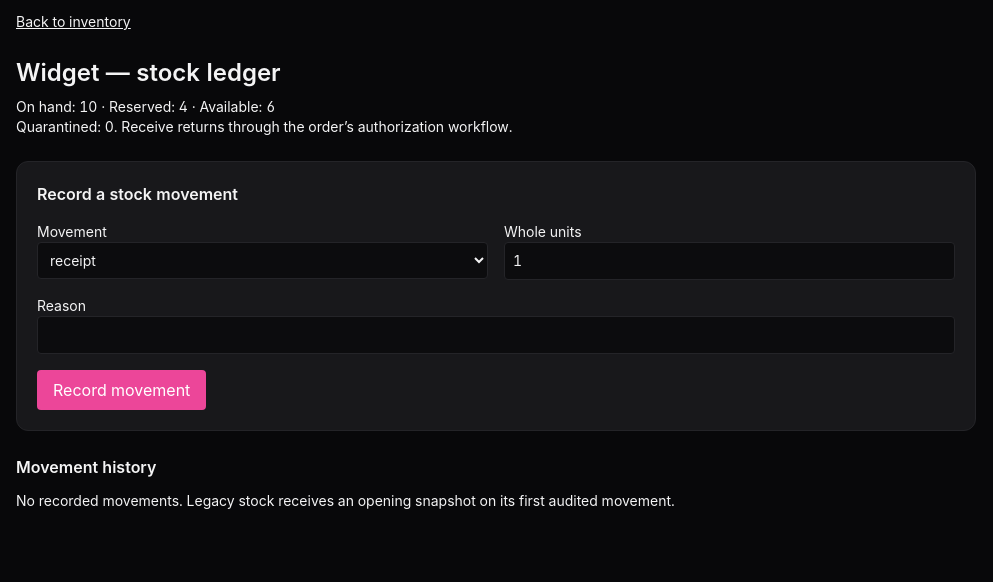
Test case: retries an uncertain write with the same frozen intent key and payload
Expected: the heading "Widget — stock ledger" is shown, top-left (16, 58), bottom-right (281, 87)
In the field labelled "Reason": (496, 335) top-left (37, 316), bottom-right (955, 354), type "Received shipment PO-1"
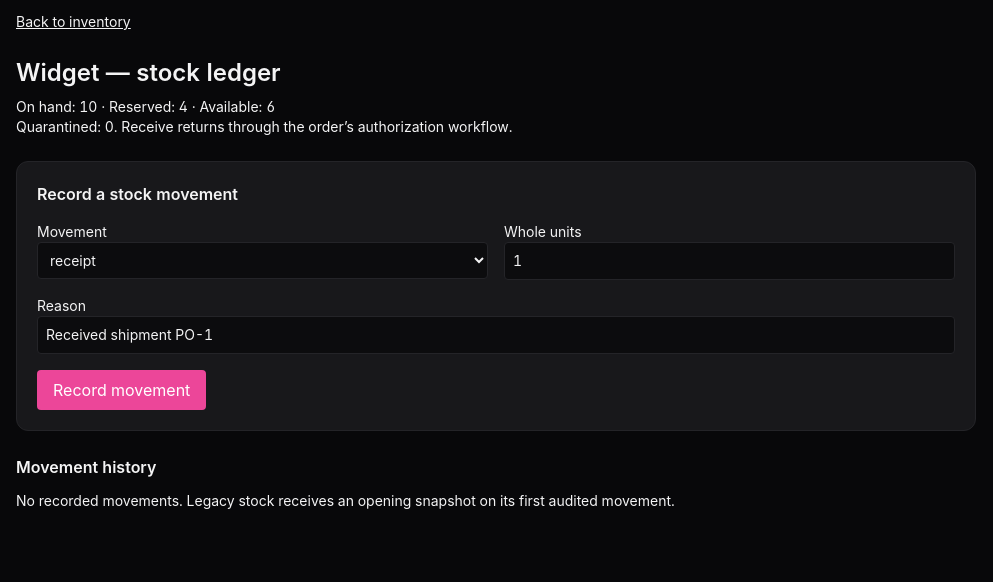
Click the button "Record movement": click(122, 390) top-left (37, 370), bottom-right (206, 410)
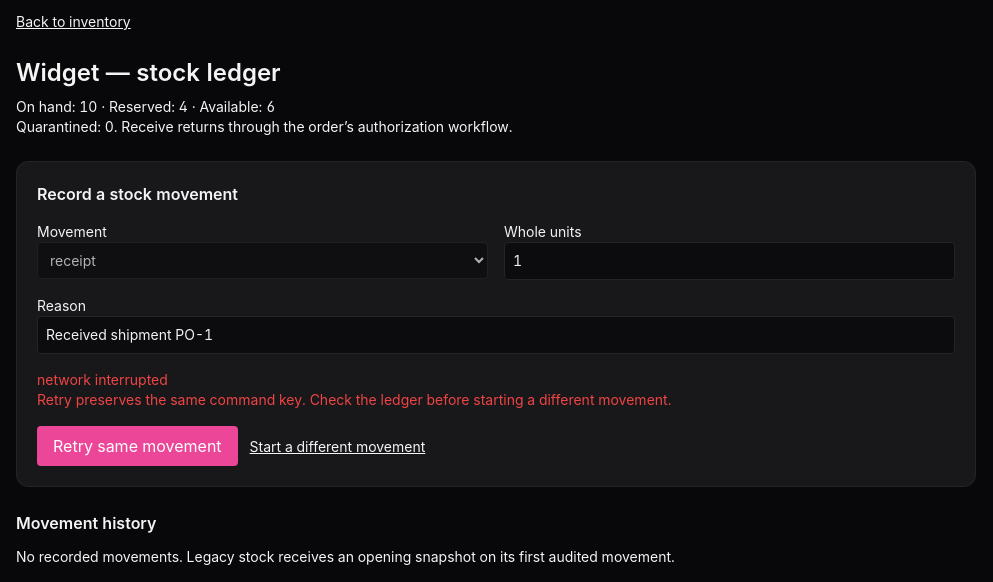
Expected: the field labelled "Reason" is disabled, top-left (37, 316), bottom-right (955, 354)
Expected: the message shows "network interrupted", top-left (37, 371), bottom-right (168, 388)
Click the button "Retry same movement": click(137, 446) top-left (37, 426), bottom-right (238, 466)
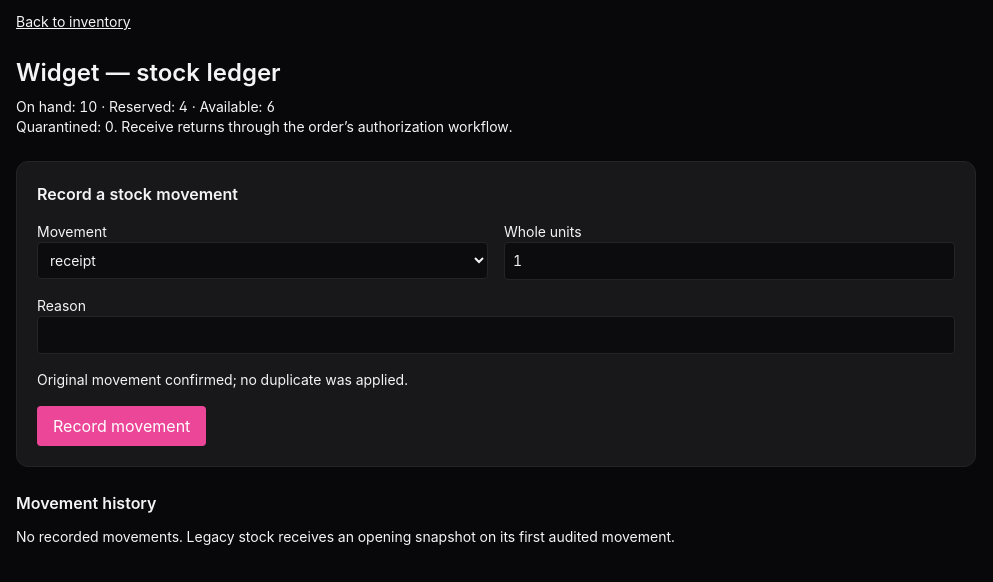
Expected: the message shows "Original movement confirmed", top-left (37, 371), bottom-right (408, 388)
